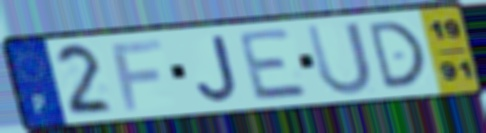2: (54, 41, 119, 119)
D: (364, 18, 429, 92)
E: (234, 26, 313, 103)
F: (108, 37, 166, 113)
J: (195, 33, 242, 104)
U: (302, 19, 375, 98)
